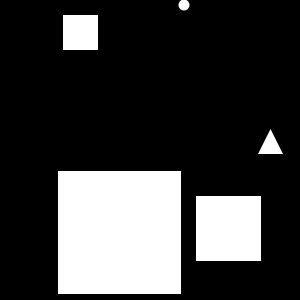circle: (58, 171, 181, 294), (196, 196, 261, 261), (63, 15, 98, 50)
rectangle: (178, 0, 189, 11)
triangle: (258, 129, 283, 154)
